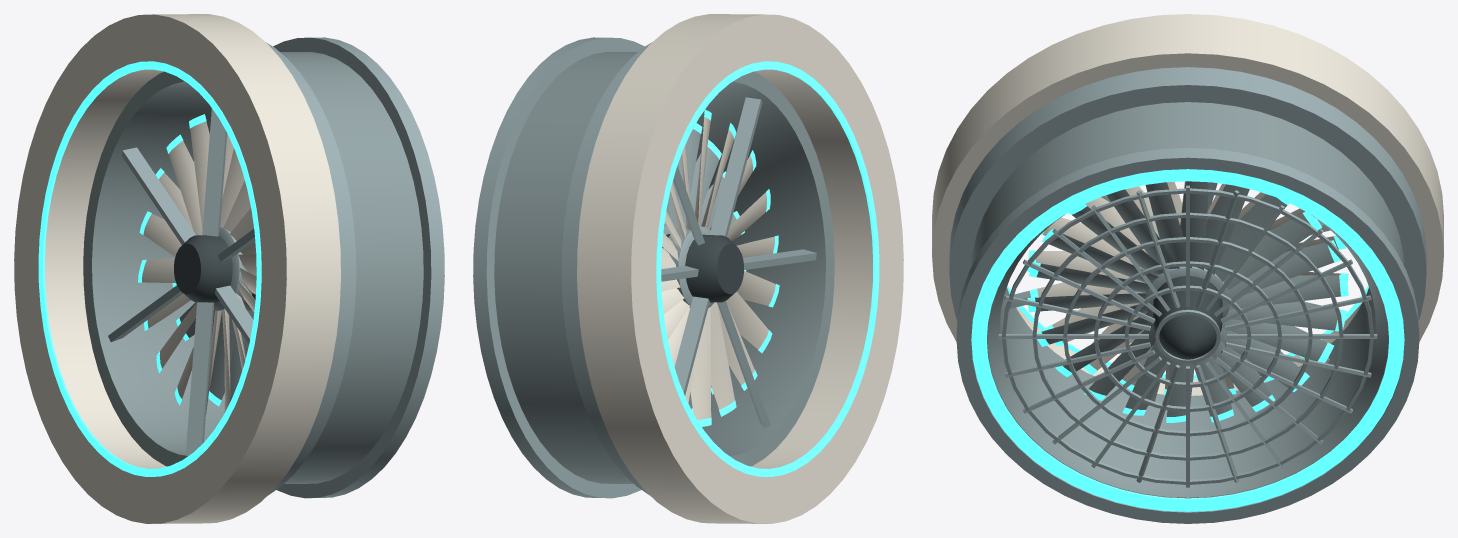
The model's file is Weather_Lung_Chunk_Throat_Compressor.glb.
3 views of the same model, side by side, from view 1: azimuth 30°, elevation 25°; view 2: azimuth 150°, elevation 25°; view 3: azimuth 270°, elevation 25° (orthographic).
Parts seen in each view (by area): view 1: Throat_Compressor_Structure, Turbine_Rotor_A_blades, Turbine_Rotor_B_blades, Turbine_Rotor_A_tips, Turbine_Rotor_A_hub; view 2: Throat_Compressor_Structure, Turbine_Rotor_A_blades, Turbine_Rotor_B_blades, Turbine_Rotor_A_tips, Turbine_Rotor_A_hub; view 3: Throat_Compressor_Structure, Throat_Compressor_Dressing, Turbine_Rotor_B_blades, Turbine_Rotor_A_blades, Turbine_Rotor_B_tips, Turbine_Rotor_B_hub, Turbine_Rotor_A_tips.
Boxes of the visible parts, x1,y1,x2,y2 form: Throat_Compressor_Structure: (14, 14, 444, 523); Turbine_Rotor_A_blades: (142, 121, 256, 414); Turbine_Rotor_B_blades: (179, 302, 254, 401); Turbine_Rotor_A_tips: (138, 114, 206, 417); Turbine_Rotor_A_hub: (214, 226, 252, 310); Throat_Compressor_Structure: (473, 14, 903, 523); Turbine_Rotor_A_blades: (661, 117, 775, 419); Turbine_Rotor_B_blades: (664, 129, 741, 408); Turbine_Rotor_A_tips: (697, 109, 779, 426); Turbine_Rotor_A_hub: (664, 226, 713, 307); Throat_Compressor_Structure: (932, 14, 1443, 523); Throat_Compressor_Dressing: (998, 185, 1377, 487); Turbine_Rotor_B_blades: (1035, 181, 1340, 416); Turbine_Rotor_A_blades: (1036, 181, 1340, 389); Turbine_Rotor_B_tips: (1027, 198, 1348, 422); Turbine_Rotor_B_hub: (1145, 266, 1229, 317); Turbine_Rotor_A_tips: (1027, 231, 1348, 395).
Bounding box in the file's own units: 2088 × 3556 × 3500.
